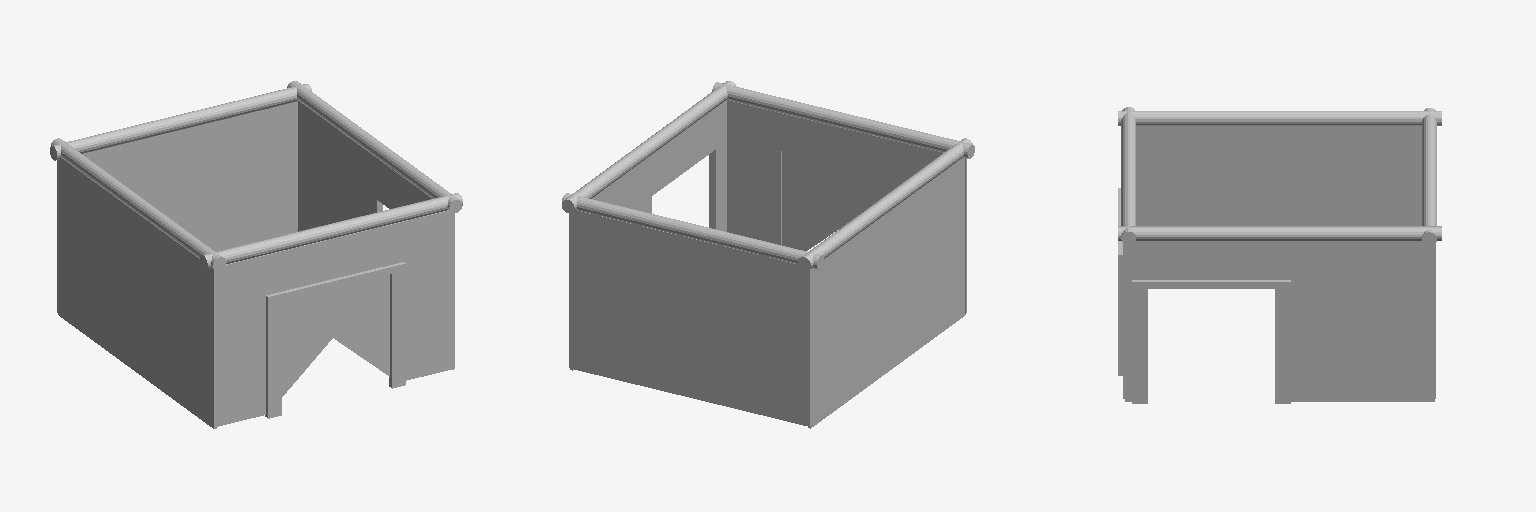
File: estructuraCasa.obj
The picture shows the model from 3 angles: view 1: azimuth 30°, elevation 25°; view 2: azimuth 150°, elevation 25°; view 3: azimuth 270°, elevation 25°; orthographic projection.
Visible parts, largest first — view 1: Box015, Wall003, Box016, Wall001, kemer, Cylinder014, Cylinder013, Cylinder011, Cylinder012; view 2: Box016, Wall003, Box015, Wall001, Cylinder013, Cylinder014, Cylinder011, Cylinder012, kemer; view 3: Wall001, Wall003, kemer001, Cylinder012, Cylinder011, Cylinder013, Cylinder014, kemer.
Part boxes in pixels (x1,y1,x2,y2): Box015: (213,210,454,427); Wall003: (58,159,216,428); Box016: (57,101,297,313); Wall001: (298,101,453,369); kemer: (265,262,405,418); Cylinder014: (50,84,311,160); Cylinder013: (200,193,462,269); Cylinder011: (51,138,225,270); Cylinder012: (287,81,461,213); Box016: (569,210,811,426); Wall003: (808,158,965,428); Box015: (727,100,966,313); Wall001: (570,100,726,370); Cylinder013: (712,82,974,158); Cylinder014: (562,193,824,269); Cylinder011: (798,138,972,270); Cylinder012: (562,81,736,213); kemer: (782,152,790,247); Wall001: (1125,241,1434,401); Wall003: (1136,126,1421,225); kemer001: (1132,280,1290,403); Cylinder012: (1118,226,1441,240); Cylinder011: (1118,111,1441,125); Cylinder013: (1121,107,1135,244); Cylinder014: (1422,108,1436,245); kemer: (1118,188,1122,375).
Size of the model in its own units: 4.77 by 3.1 by 5.25.